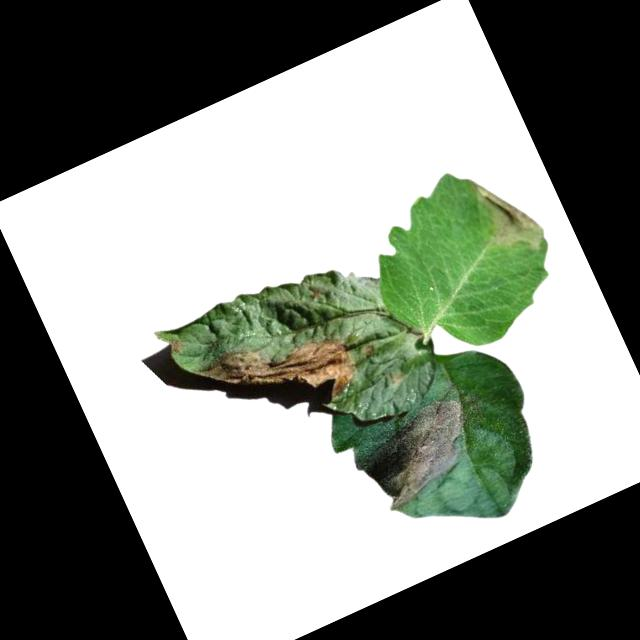Late_blight: (197, 304, 367, 446), (345, 388, 496, 517), (465, 165, 553, 267), (169, 338, 187, 357)
